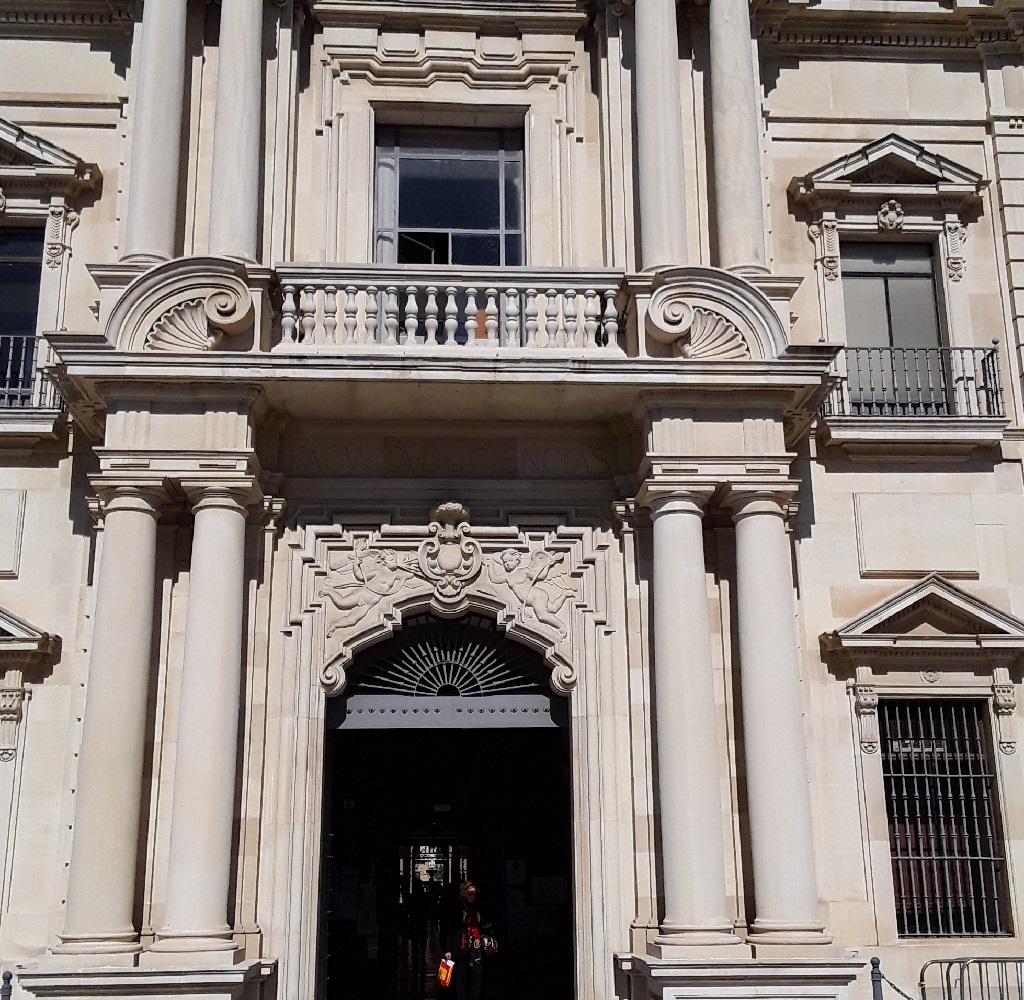fronton: (823, 569, 1024, 658), (794, 129, 985, 209)
fronton-partido: (91, 251, 793, 400)
vano-adintelado: (337, 77, 545, 348), (849, 680, 1024, 944), (813, 215, 975, 421)
